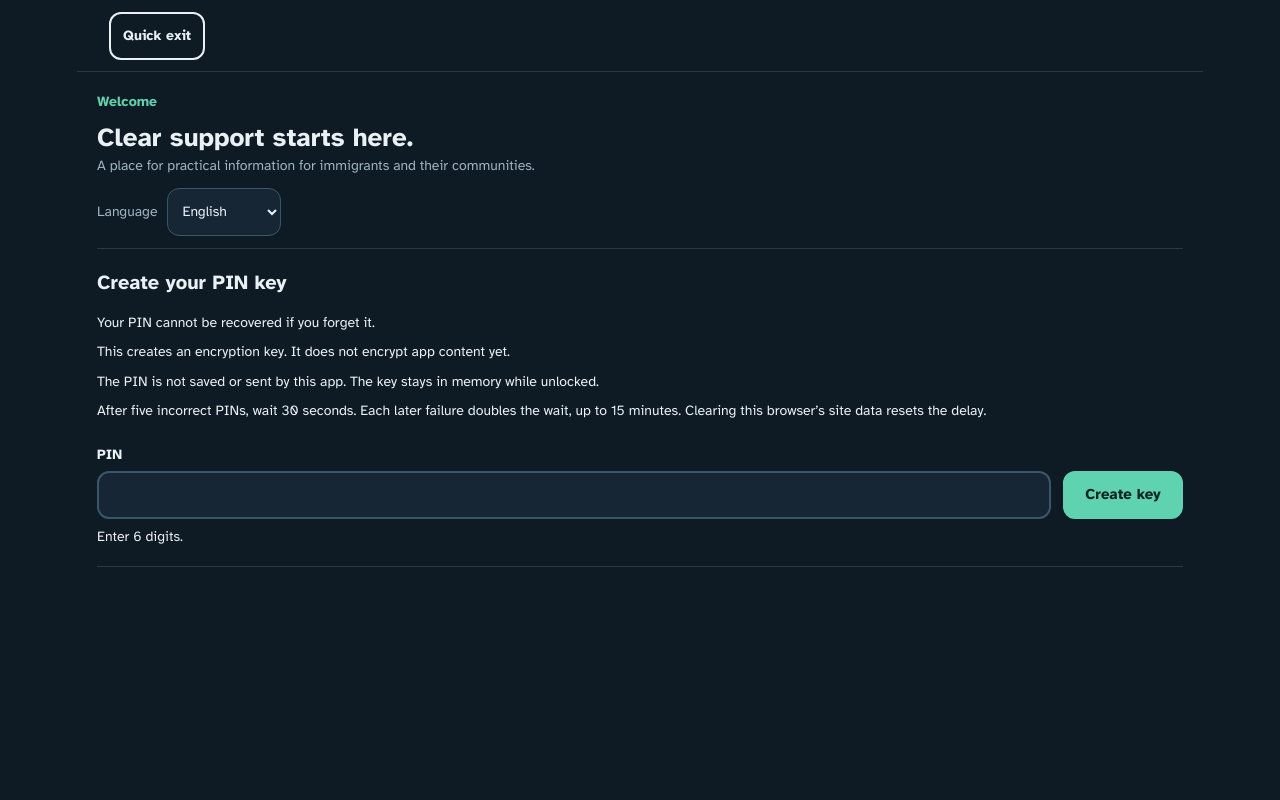
it: App › shows the six-tab bar with accessible names after unlock
Type "123456" into the password field labelled "PIN" at x=574, y=494, box [97,470,1051,518]
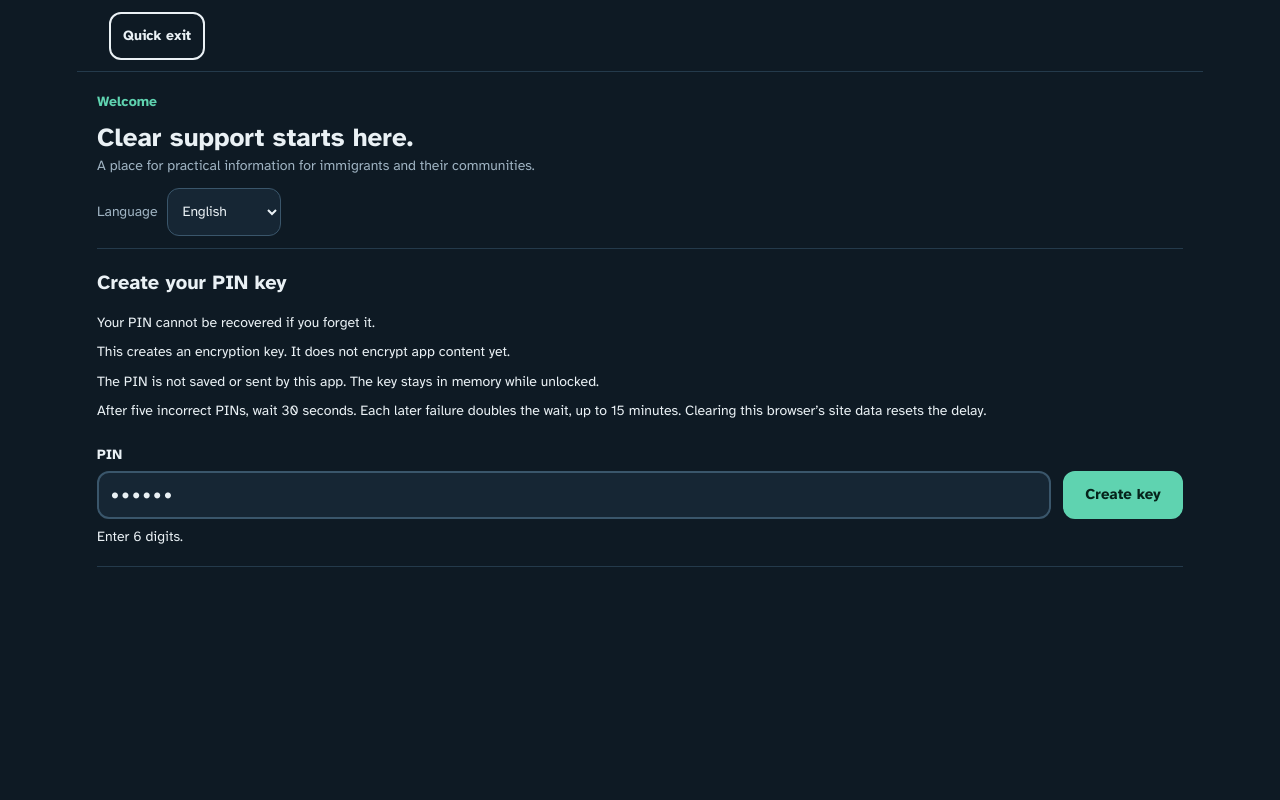
Click the button "Create key" at x=1123, y=494, box [1063,470,1183,518]
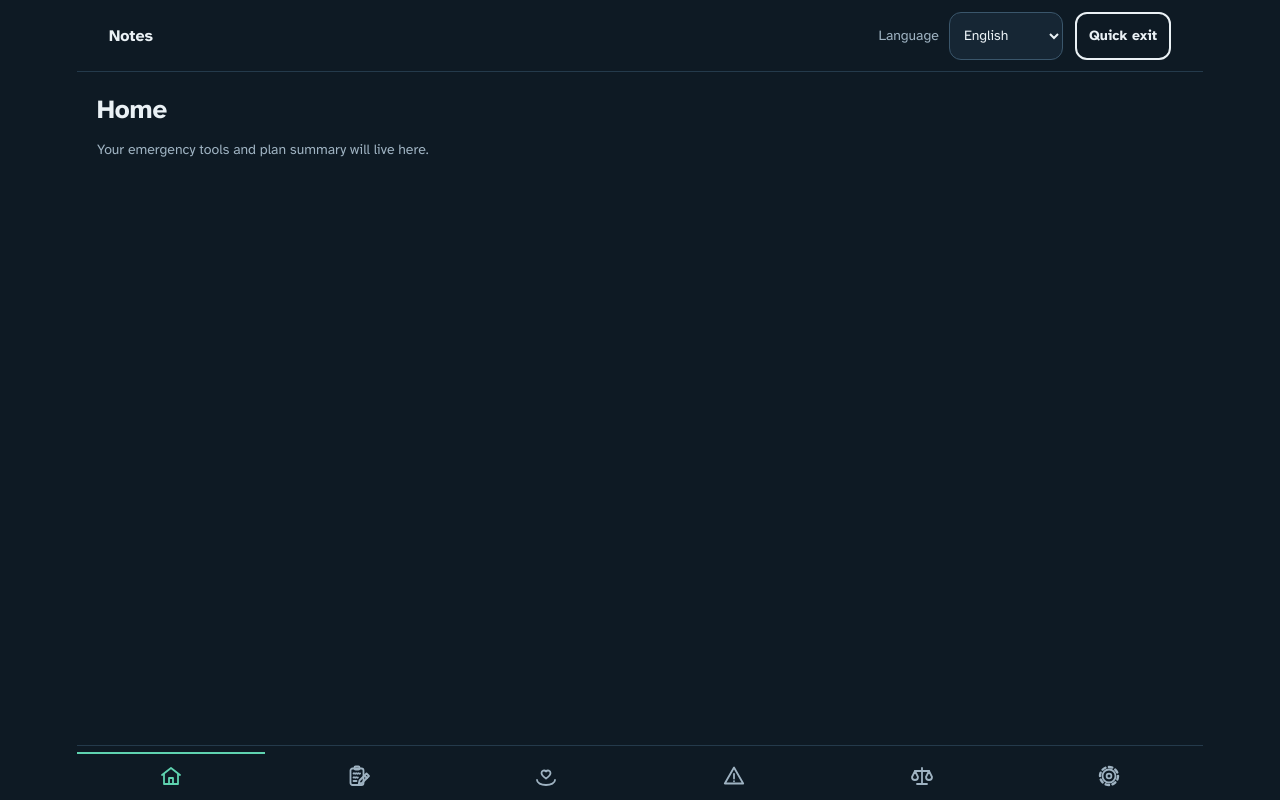
Check: the heading "Home" is shown, box [97,93,167,126]
Check: the link named "Home" is shown, box [77,752,265,799]
Check: the link named "Plan" is shown
Click the link named "Plan" at x=358, y=776, box [346,764,370,788]
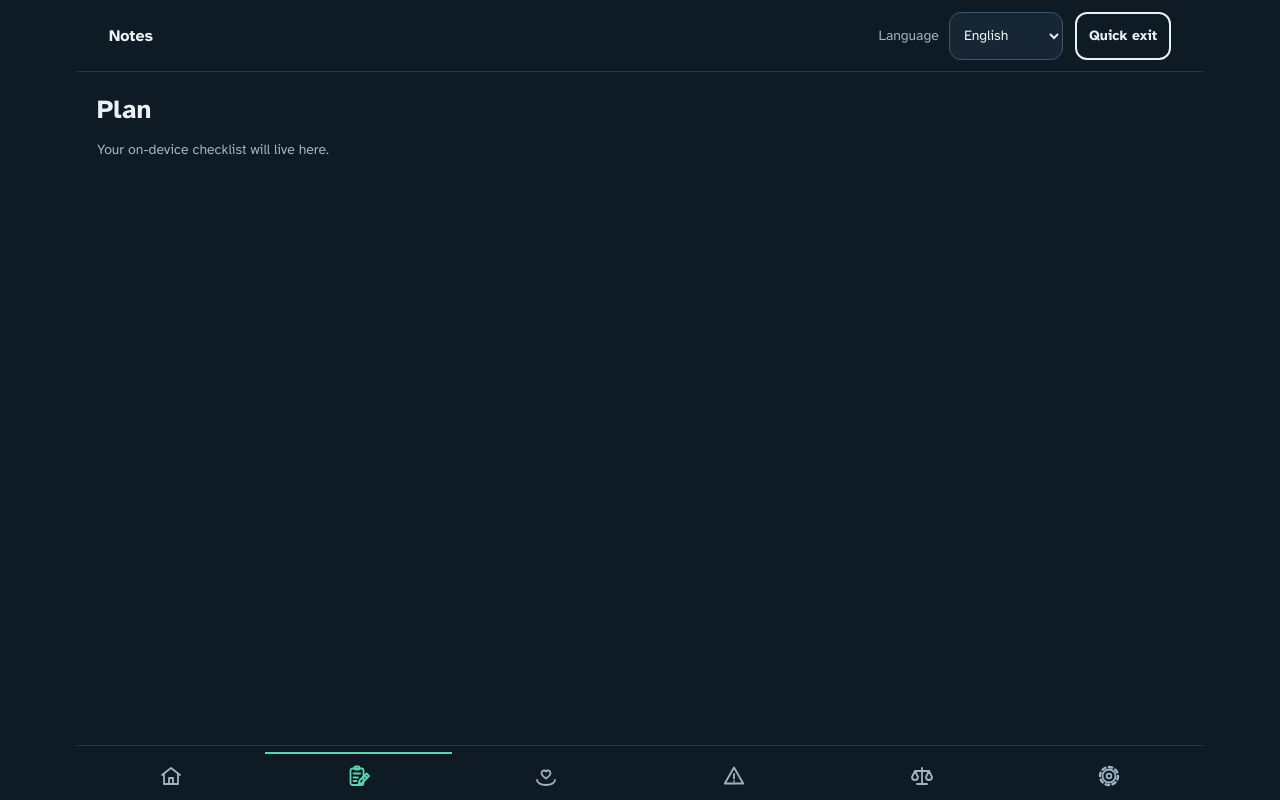
Check: the heading "Plan" is shown, box [97,93,151,126]
